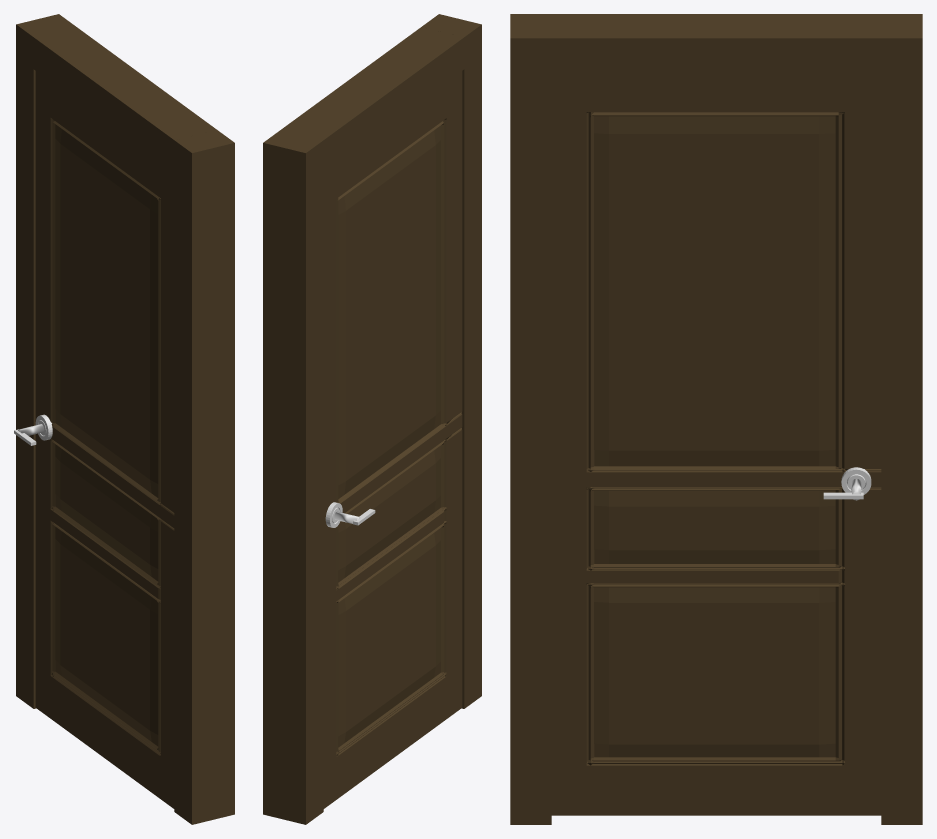
Rendered from WCDoor.glb.
3 renders of one model, left to right at view 1: azimuth 30°, elevation 25°; view 2: azimuth 150°, elevation 25°; view 3: azimuth 270°, elevation 25°, orthographic. The views are drawn at different scales.
Parts seen in each view (by area): view 1: Cube.003, Cube.007; view 2: Cube.003, Cube.007; view 3: Cube.003, Cube.007.
Boxes of the visible parts, left/top/right/bottom form: Cube.003: left=14, top=71, right=174, bottom=808; Cube.007: left=16, top=14, right=234, bottom=824; Cube.003: left=323, top=71, right=462, bottom=808; Cube.007: left=263, top=14, right=481, bottom=824; Cube.003: left=551, top=76, right=881, bottom=815; Cube.007: left=510, top=14, right=922, bottom=824.
Size of the model in its own units: 0.276 by 2.1 by 0.9971.
